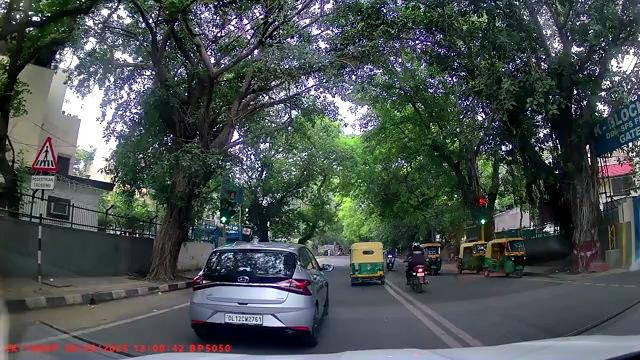motorcycle_with_helmet: (403, 241, 429, 293)
